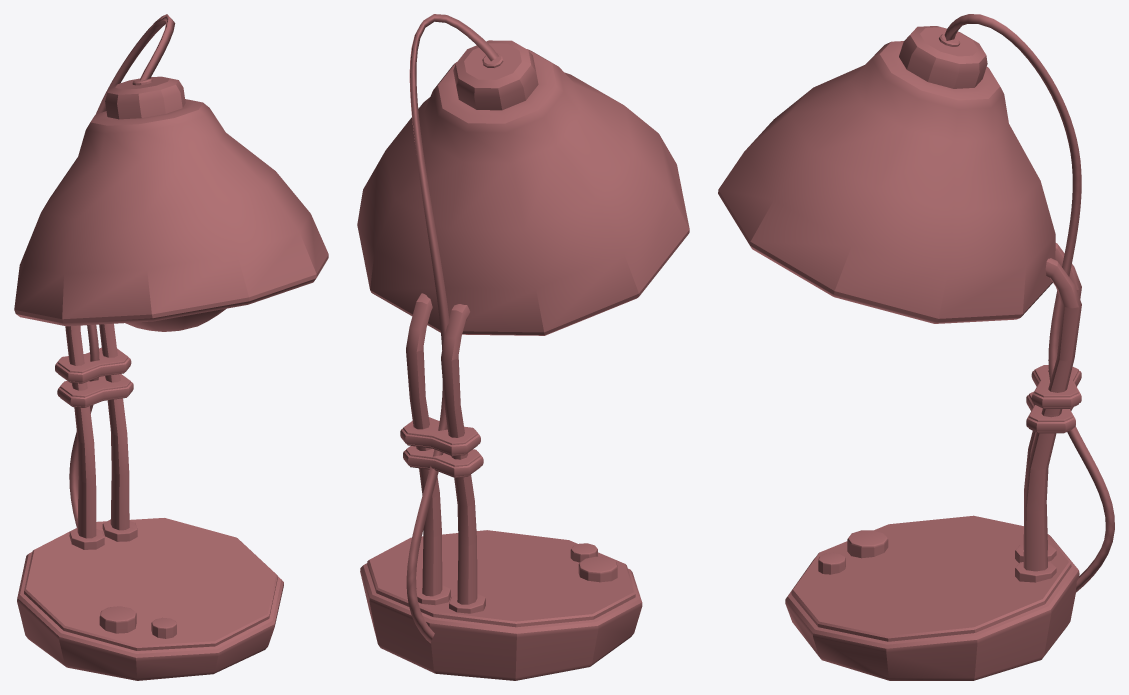
The model's file is Desklamp.fbx.
3 renders of one model, left to right at view 1: azimuth 30°, elevation 25°; view 2: azimuth 150°, elevation 25°; view 3: azimuth 270°, elevation 25°, orthographic. The views are drawn at different scales.
Parts seen in each view (by area): view 1: Lamp3; view 2: Lamp3; view 3: Lamp3.
Part boxes in pixels (<box>): Lamp3: <box>14,14,328,680</box>; Lamp3: <box>357,14,689,680</box>; Lamp3: <box>718,14,1114,680</box>.
Size of the model in its own units: 1.14 by 2.39 by 1.35.
